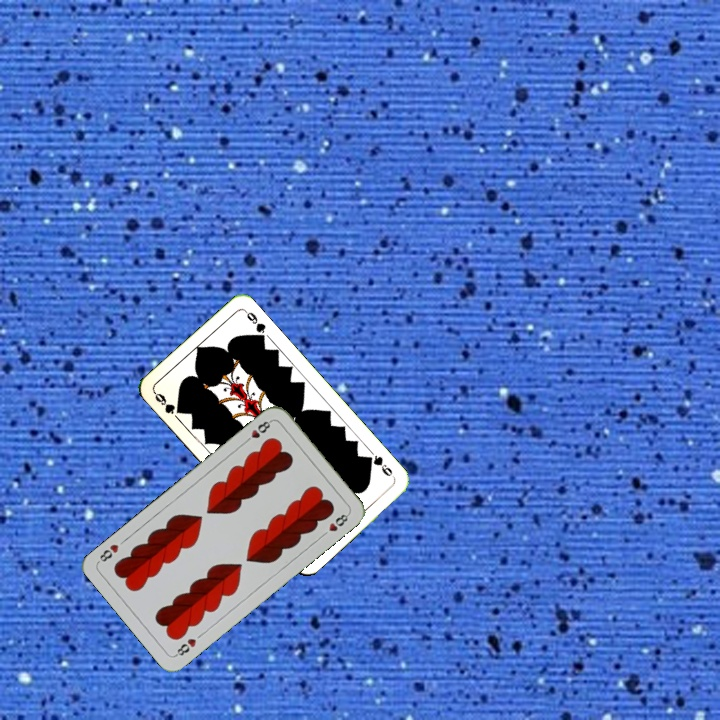G9: (362, 451, 397, 481), (150, 388, 186, 417)
H8: (240, 416, 274, 446), (171, 634, 199, 659)
